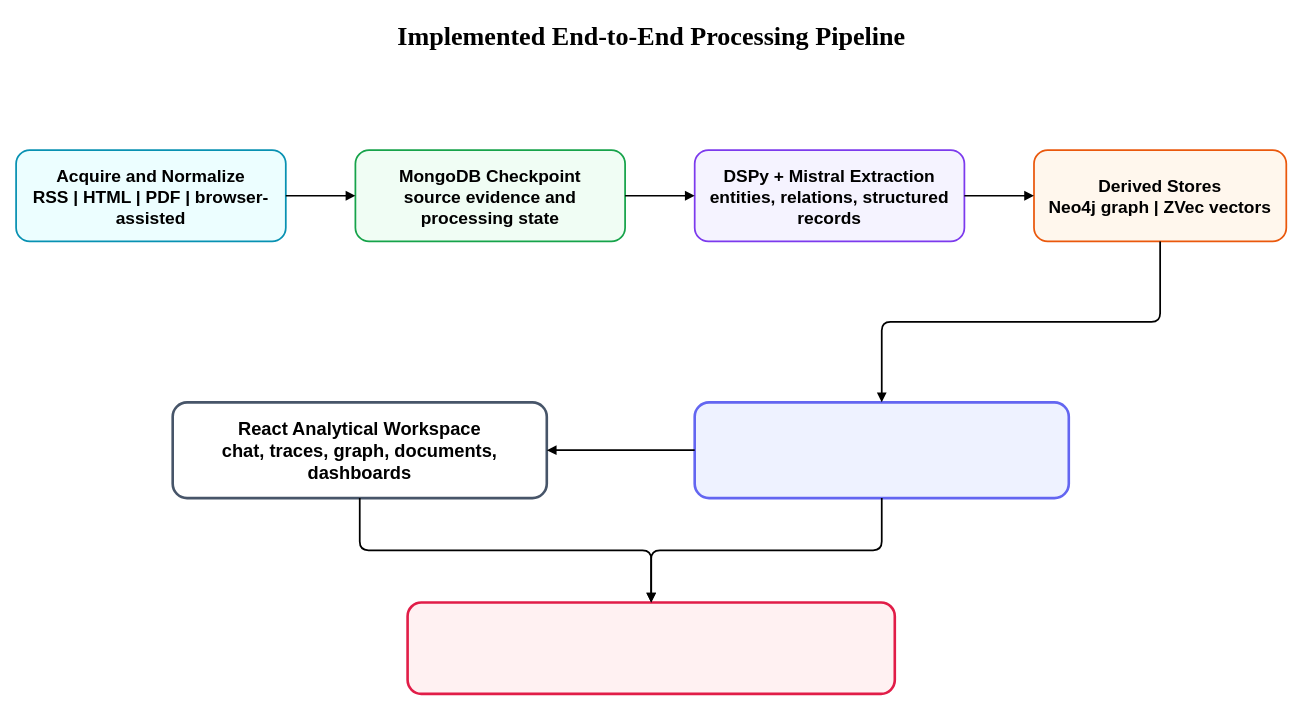
The diagram is 1302 pixels wide and 710 high, and some of its shapes have lost their labels. The centre of each missing label's shape, as x and y in pixels:
FastAPI Reasoning Engine plan | retrieve | fuse | synthesize: (x=881, y=450)
OpenTelemetry Instrumentation Prometheus | Grafana | Jaeger | logs: (x=651, y=648)
